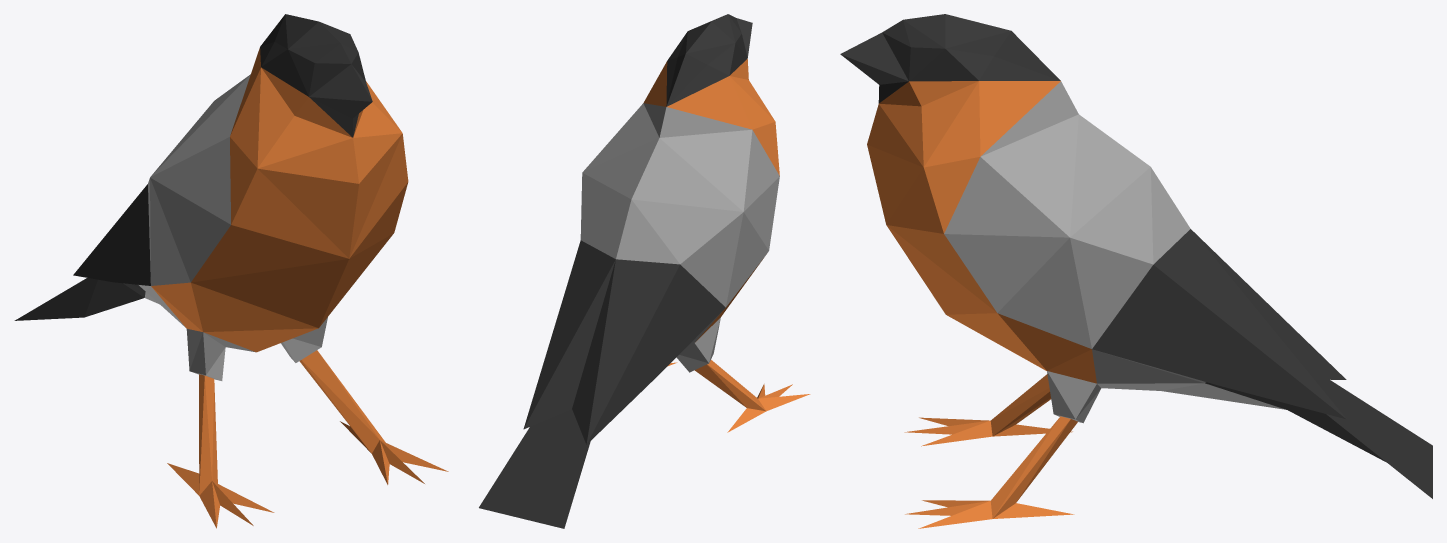
Rendered from bird_-_bullfinch.glb.
The picture shows the model from 3 angles, left to right: view 1: azimuth 30°, elevation 25°; view 2: azimuth 150°, elevation 25°; view 3: azimuth 270°, elevation 25°; orthographic projection. The views are drawn at different scales.
Parts seen in each view (by area): view 1: Plane; view 2: Plane; view 3: Plane.
Part boxes in pixels (x1=…): Plane: x1=14, y1=14, x2=448, y2=528; Plane: x1=479, y1=14, x2=810, y2=528; Plane: x1=840, y1=14, x2=1432, y2=528.
Size of the model in its own units: 0.0727 by 0.1398 by 0.1635.
